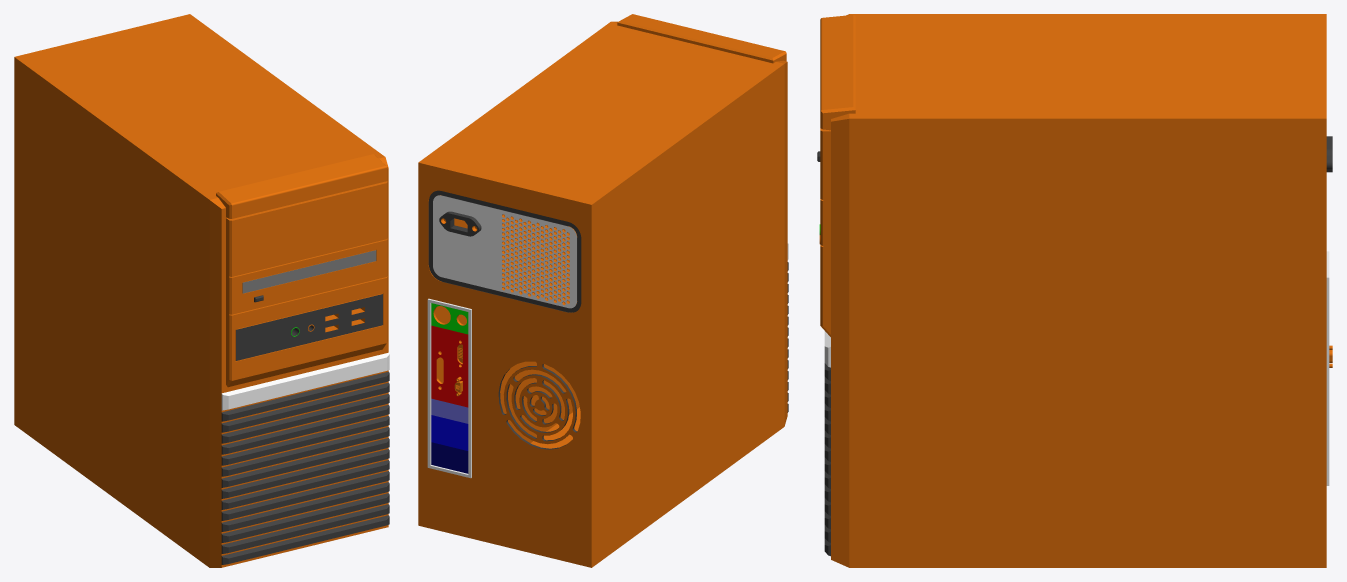
The picture shows the model from 3 angles, left to right: view 1: azimuth 30°, elevation 25°; view 2: azimuth 150°, elevation 25°; view 3: azimuth 270°, elevation 25°; orthographic projection. The views are drawn at different scales.
Visible parts, largest first — view 1: Body1; view 2: Body1; view 3: Body1.
Part boxes in pixels (x1=…): Body1: x1=14, y1=14, x2=389, y2=567; Body1: x1=418, y1=14, x2=788, y2=567; Body1: x1=817, y1=14, x2=1332, y2=567.
Bounding box in the file's own units: 200 × 405 × 416.
